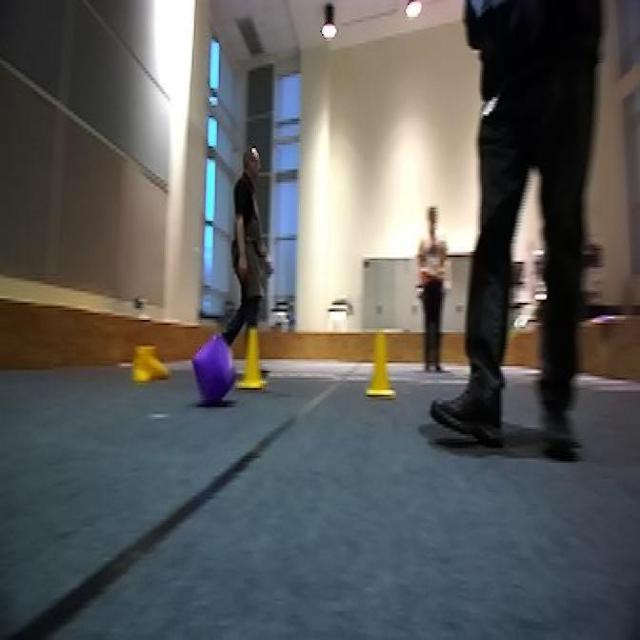frc_cone: (238, 328, 267, 392), (368, 328, 394, 396), (132, 341, 170, 386)
frc_cube: (192, 336, 234, 408)
